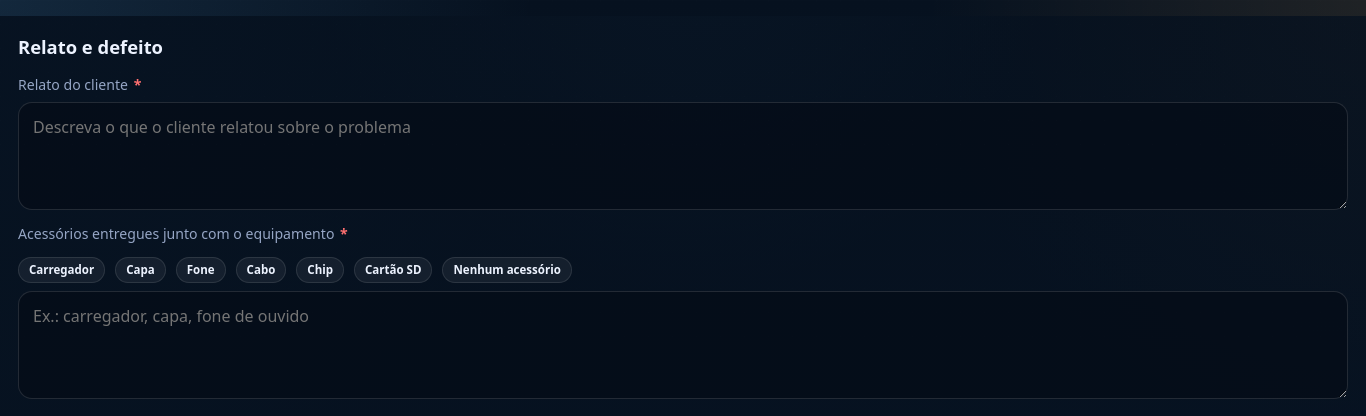
Test: StepDetails › "Nenhum acessório" é exclusivo: substitui o valor e é desfeito por qualquer chip de item
The width and height of the screenshot is (1366, 416).
What coordinates should you click on to do the following:
click the button "Nenhum acessório"
I would click on:
 (507, 270)
Its box is [442,257,572,282].
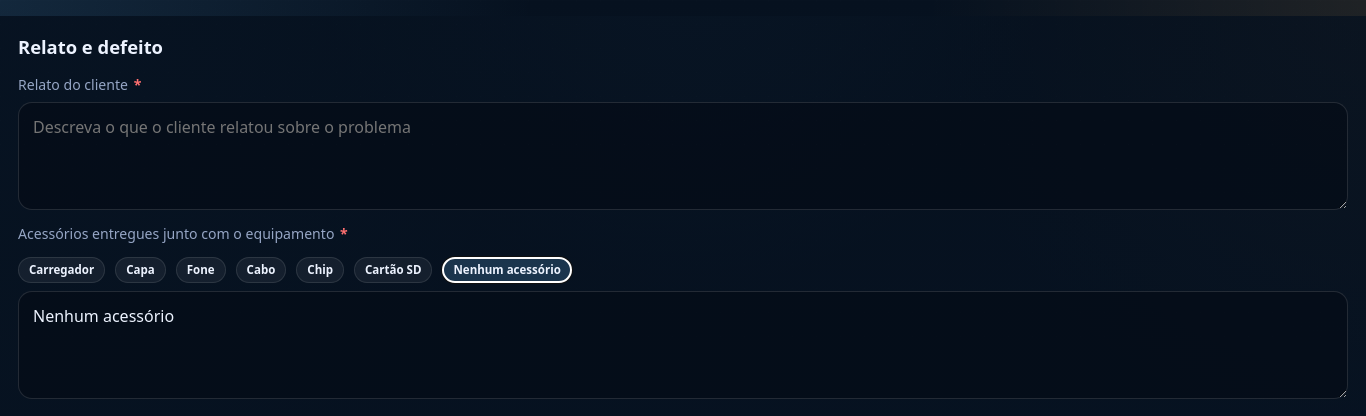
Expected: the text box labelled "Acessórios entregues junto com o equipamento *" holds "Nenhum acessório", [18,290,1348,398]
What coordinates should you click on to do the following:
click the button "Cabo"
I would click on:
 (261, 270)
Its box is [236,257,286,282].
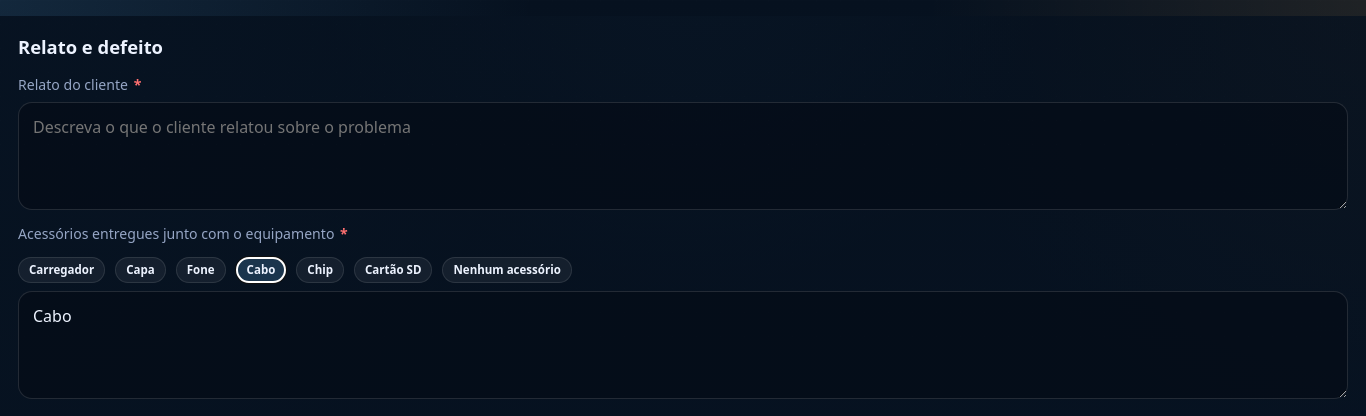
Expected: the text box labelled "Acessórios entregues junto com o equipamento *" holds "Cabo", [18,290,1348,398]
